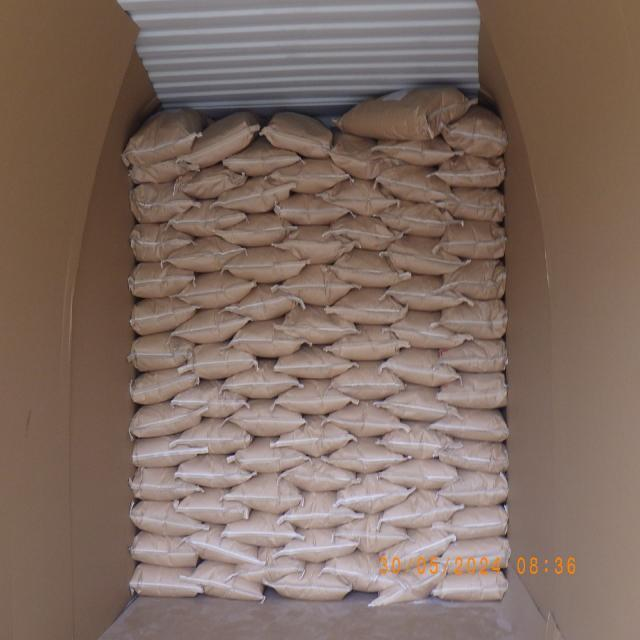gunny_bag: (338, 82, 474, 140), (120, 108, 203, 170), (178, 110, 261, 170), (372, 556, 448, 608), (378, 526, 454, 576), (262, 114, 334, 162), (322, 549, 402, 592), (280, 264, 360, 307), (268, 561, 356, 600), (187, 558, 265, 602), (185, 525, 262, 569), (445, 108, 510, 160), (378, 490, 462, 530), (384, 233, 464, 275), (275, 414, 354, 456), (329, 132, 398, 180), (334, 472, 412, 514), (174, 269, 255, 309), (328, 250, 409, 290), (277, 223, 357, 263), (278, 304, 358, 344), (228, 473, 304, 515), (382, 347, 461, 387), (227, 247, 308, 286), (223, 358, 301, 398), (390, 312, 468, 352), (376, 164, 454, 204), (222, 137, 300, 177), (228, 281, 306, 321), (386, 274, 467, 312), (326, 288, 407, 326), (324, 400, 405, 438), (280, 489, 358, 528), (270, 158, 350, 196), (228, 399, 308, 437), (326, 436, 406, 474), (172, 378, 248, 418), (167, 238, 247, 276), (380, 386, 460, 424), (175, 418, 252, 457), (231, 320, 306, 360), (223, 511, 304, 548), (318, 180, 396, 218), (380, 199, 458, 237), (330, 362, 404, 402), (232, 546, 306, 586), (276, 528, 358, 564), (173, 310, 252, 347), (334, 516, 407, 556), (179, 342, 257, 379), (231, 435, 309, 472), (170, 200, 248, 237), (174, 453, 254, 489), (129, 501, 206, 538), (441, 296, 508, 338), (216, 178, 292, 215), (130, 401, 204, 439), (176, 488, 250, 526), (380, 423, 454, 461), (280, 457, 358, 493), (275, 378, 353, 414), (274, 344, 356, 378), (326, 213, 401, 250), (438, 219, 507, 259), (439, 504, 511, 542), (438, 536, 510, 574), (216, 212, 294, 247), (330, 327, 408, 362), (130, 296, 198, 336), (130, 183, 196, 224), (429, 408, 508, 442), (177, 165, 249, 202), (131, 562, 205, 598), (132, 366, 202, 404), (438, 370, 508, 408), (442, 260, 508, 300), (128, 333, 194, 373), (130, 532, 201, 569), (433, 154, 505, 190), (380, 459, 460, 491), (130, 223, 194, 263), (437, 337, 508, 373), (130, 467, 203, 502), (374, 136, 456, 167), (128, 262, 194, 300), (437, 188, 506, 224), (430, 570, 507, 602), (440, 472, 510, 507), (437, 440, 511, 473), (133, 434, 204, 468), (275, 193, 349, 225), (130, 158, 196, 184)
